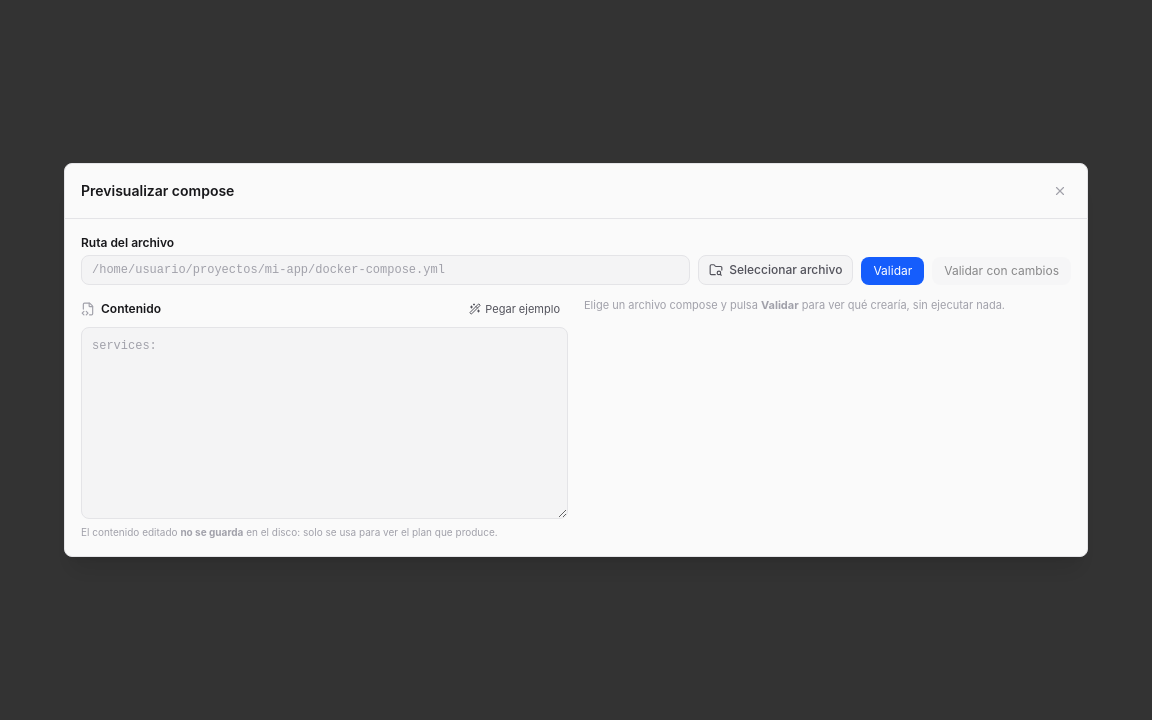
Scenario: ComposePlanModal › descarta el plan cuando se edita la ruta
Type "/a/dc.yml" into the field labelled "Ruta del archivo" at coordinates (386, 270), box left=81, top=255, right=690, bottom=285
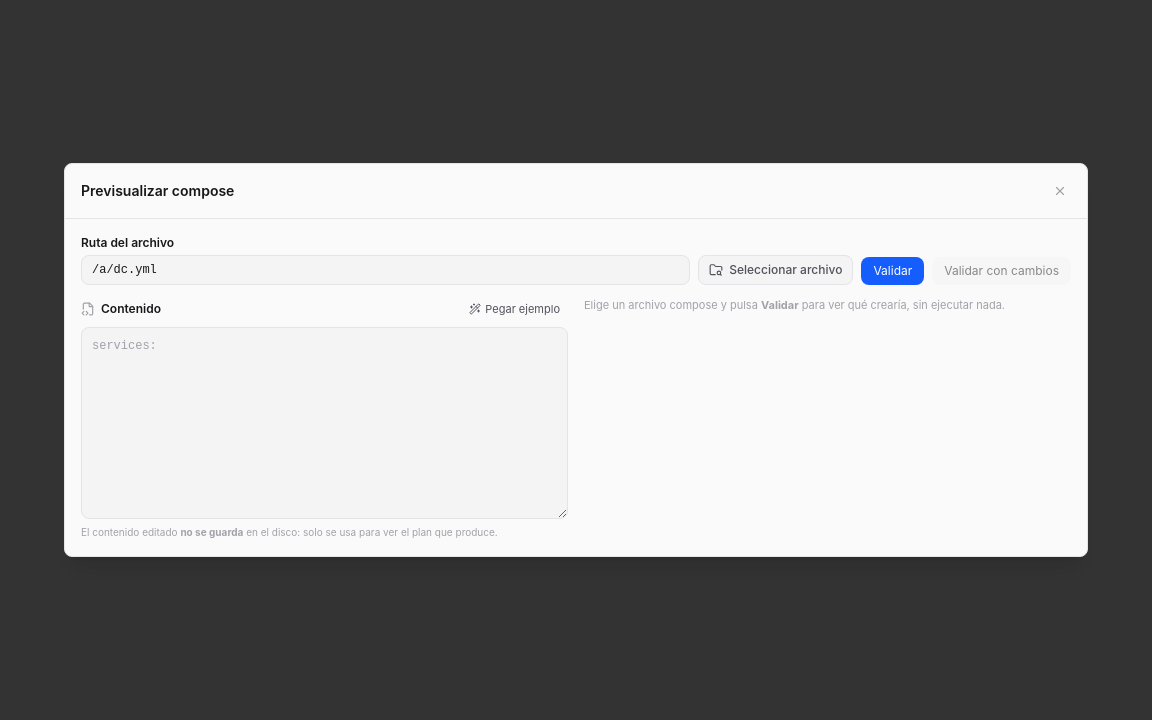
Click the button "Validar" at coordinates (893, 271), box left=861, top=257, right=924, bottom=285
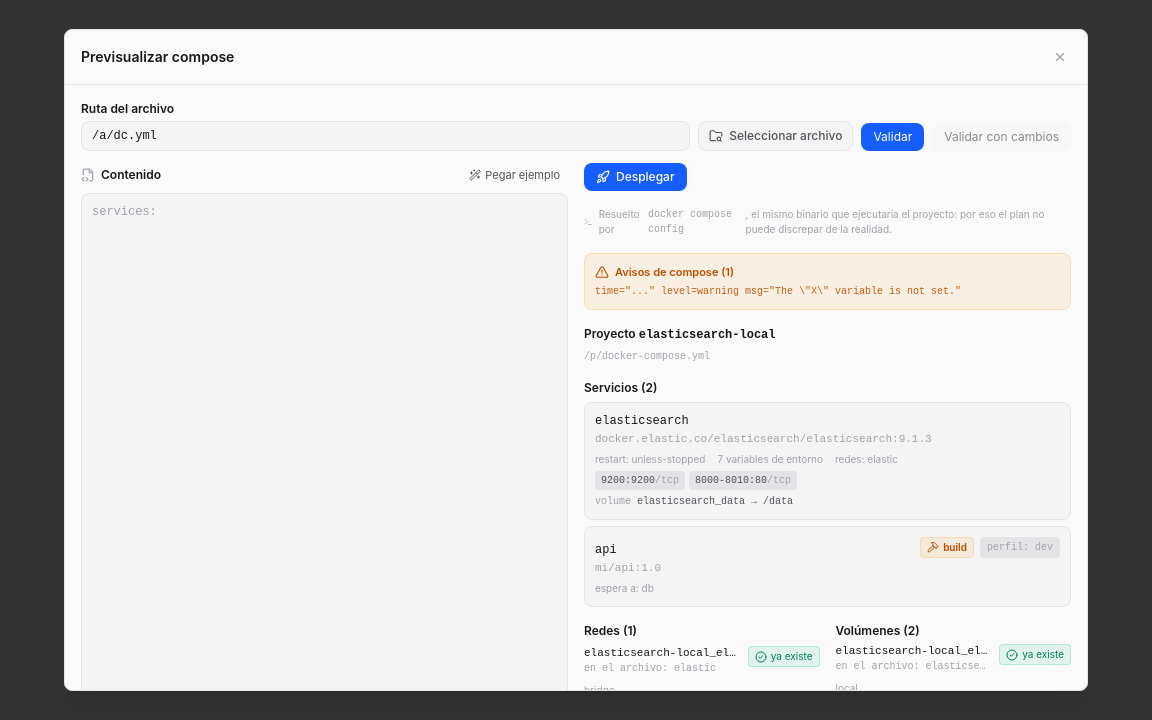
Now the element with test id "compose-plan" is shown, box left=584, top=163, right=1071, bottom=690
Replace the text in the field labelled "Ruta del archivo" with "/b/dc.yml" at coordinates (386, 136), box left=81, top=121, right=690, bottom=151
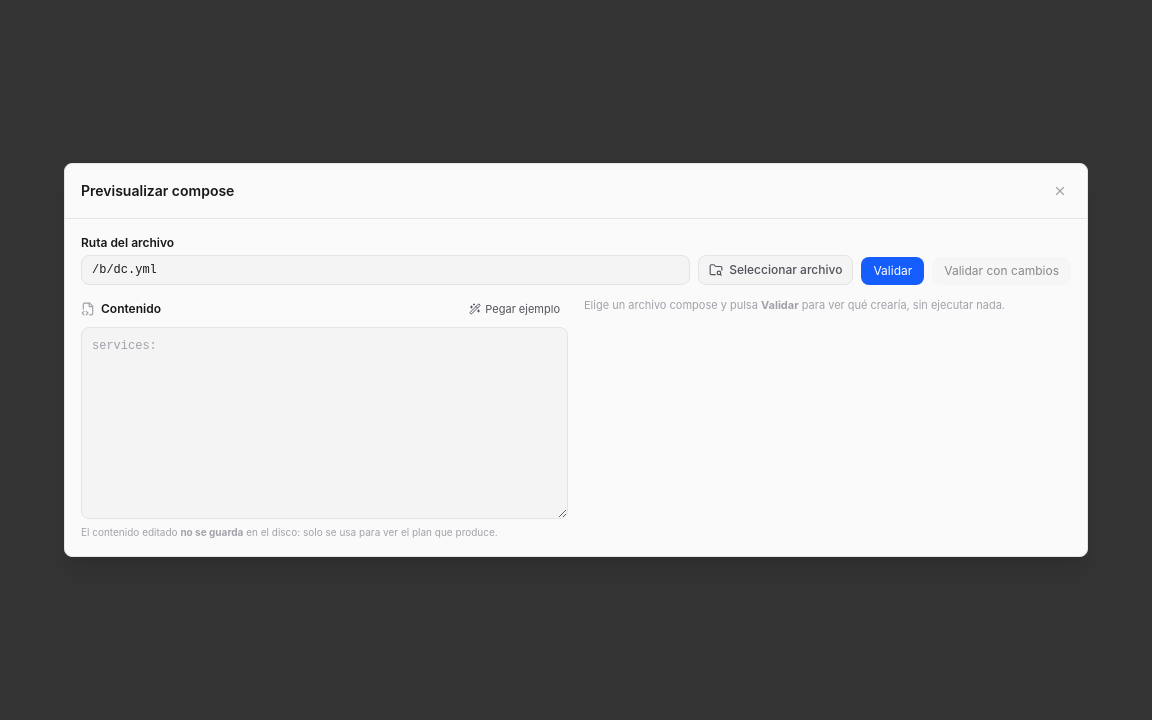
Now the button "Desplegar" is gone
